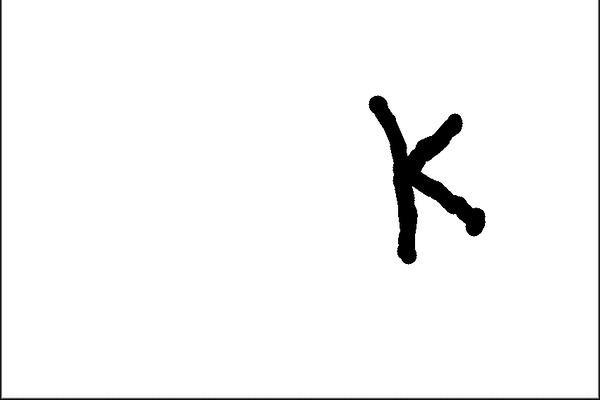K: (361, 81, 494, 268)
